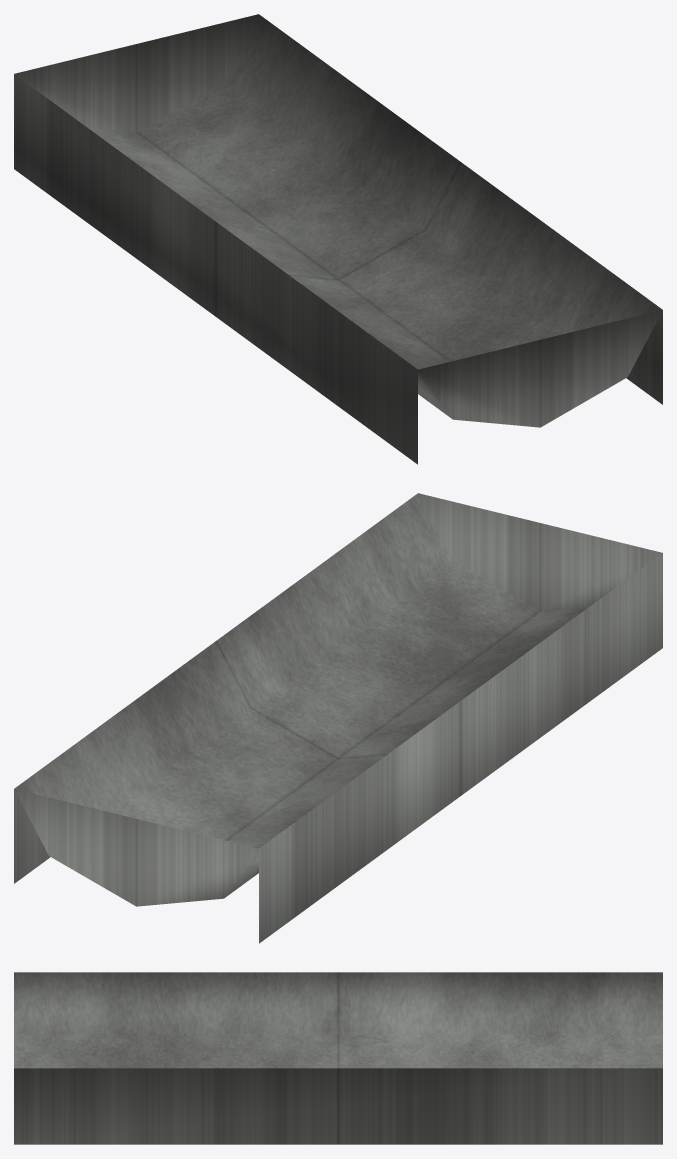
File: RES_OpenDrain_V_2m.obj
3 renders of one model, top to bottom at view 1: azimuth 30°, elevation 25°; view 2: azimuth 150°, elevation 25°; view 3: azimuth 270°, elevation 25°, orthographic. The views are drawn at different scales.
Visible parts, largest first — view 1: RES_OpenDrain_V_2m; view 2: RES_OpenDrain_V_2m; view 3: RES_OpenDrain_V_2m.
Boxes of the visible parts, x1=… form: RES_OpenDrain_V_2m: x1=14, y1=14, x2=662, y2=464; RES_OpenDrain_V_2m: x1=14, y1=493, x2=662, y2=943; RES_OpenDrain_V_2m: x1=14, y1=972, x2=662, y2=1144.
Bounding box in the file's own units: 0.7 × 0.26 × 2.
1 material, 1 textured.
